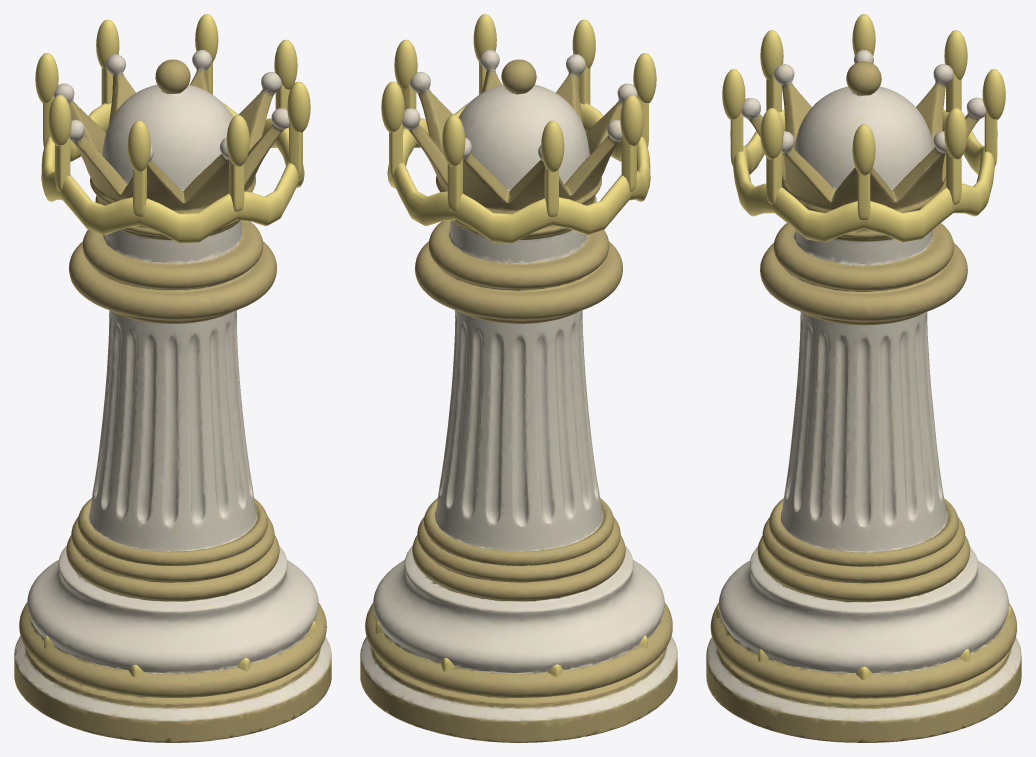
The model's file is queen-classic-regina.glb.
3 renders of one model, left to right at view 1: azimuth 30°, elevation 25°; view 2: azimuth 150°, elevation 25°; view 3: azimuth 270°, elevation 25°, orthographic.
Visible parts, largest first — view 1: world, UniversalRoleAddon_q; view 2: world, UniversalRoleAddon_q; view 3: world, UniversalRoleAddon_q.
Boxes of the visible parts, x1,y1,x2,y2 form: world: (14, 50, 331, 742); UniversalRoleAddon_q: (35, 14, 316, 696); world: (360, 50, 677, 742); UniversalRoleAddon_q: (375, 14, 656, 696); world: (706, 49, 1021, 742); UniversalRoleAddon_q: (716, 14, 1011, 698).
Bounding box in the file's own units: 0.7684 × 1.65 × 0.7687.
Materials: 2 (1 with a texture image).
